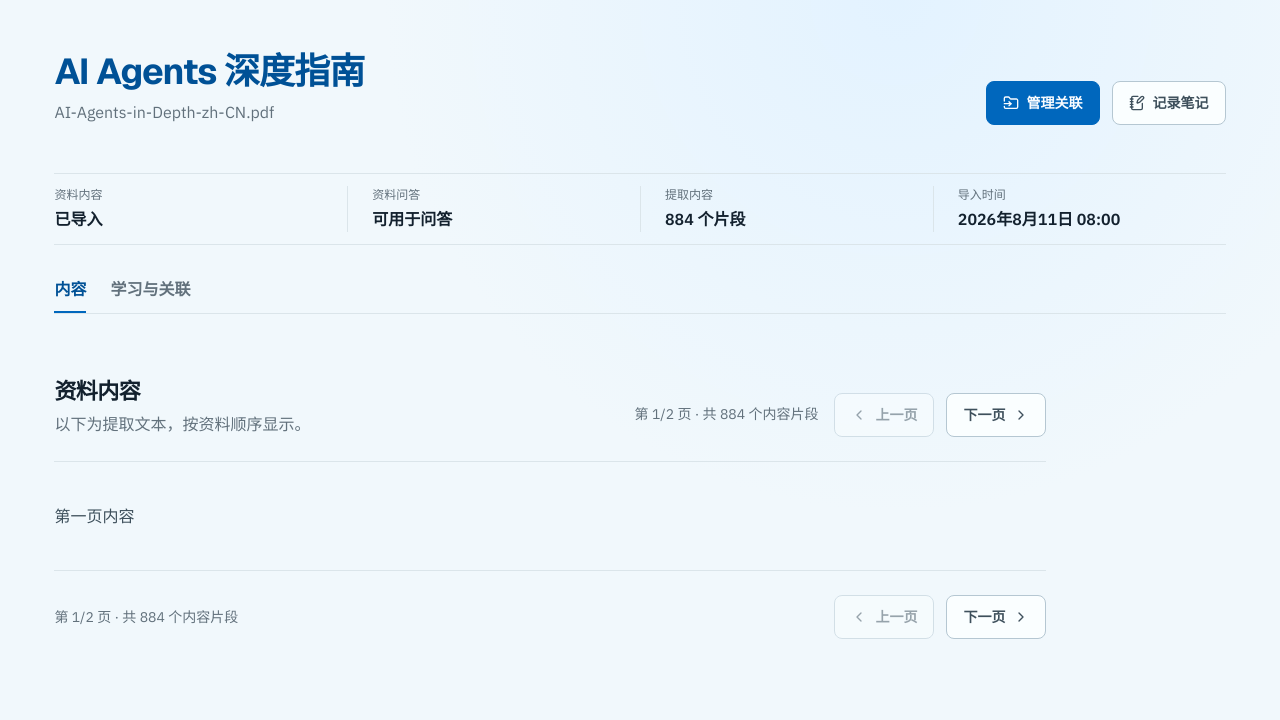
Final UX Batch 3C · content surface and pagination › 上一页 / 下一页使用服务端分页，并正确限制边界
Check: the text "第一页内容" is shown, box [54,506,134,526]
Check: the button with aria-label "上一页资料内容" is disabled, box [834,393,934,437]
Click the button with aria-label "下一页资料内容". click: (996, 415)
box: [946,393,1046,437]
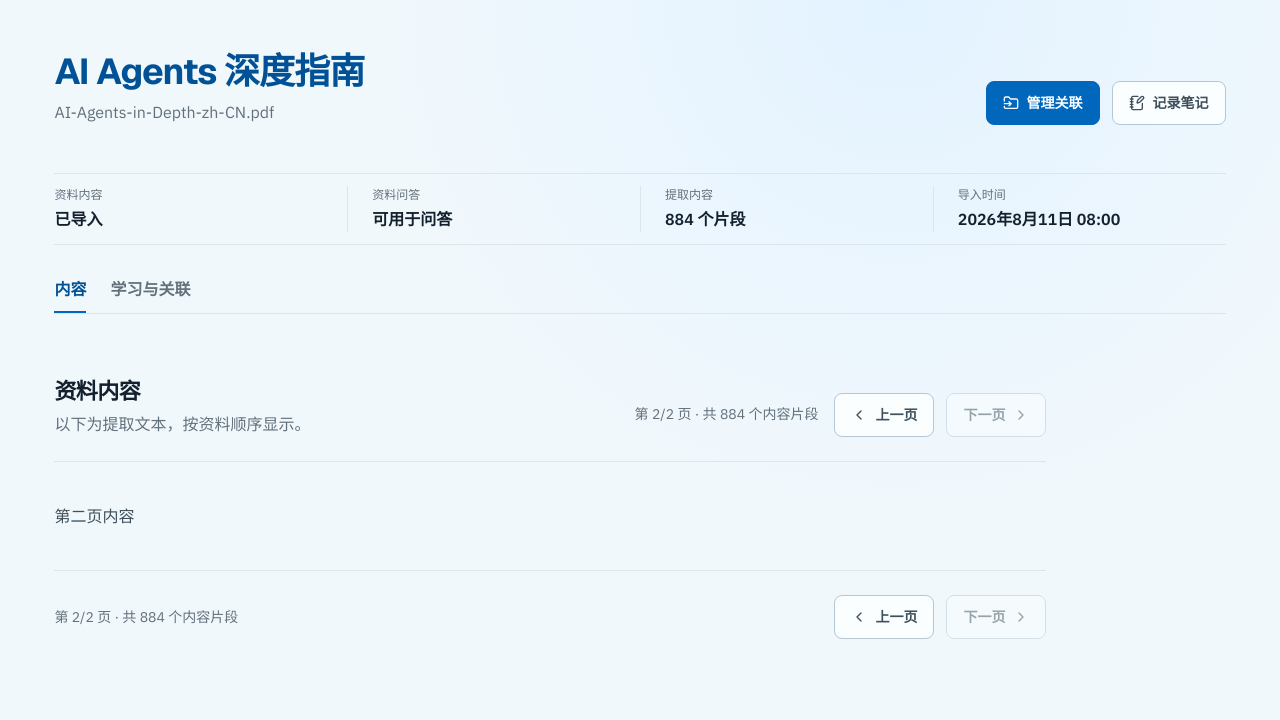
Check: the text "第二页内容" is shown, box [54,506,134,526]
Check: the button with aria-label "下一页资料内容" is disabled, box [946,393,1046,437]
Click the button with aria-label "上一页资料内容". click: (884, 415)
box: [834,393,934,437]
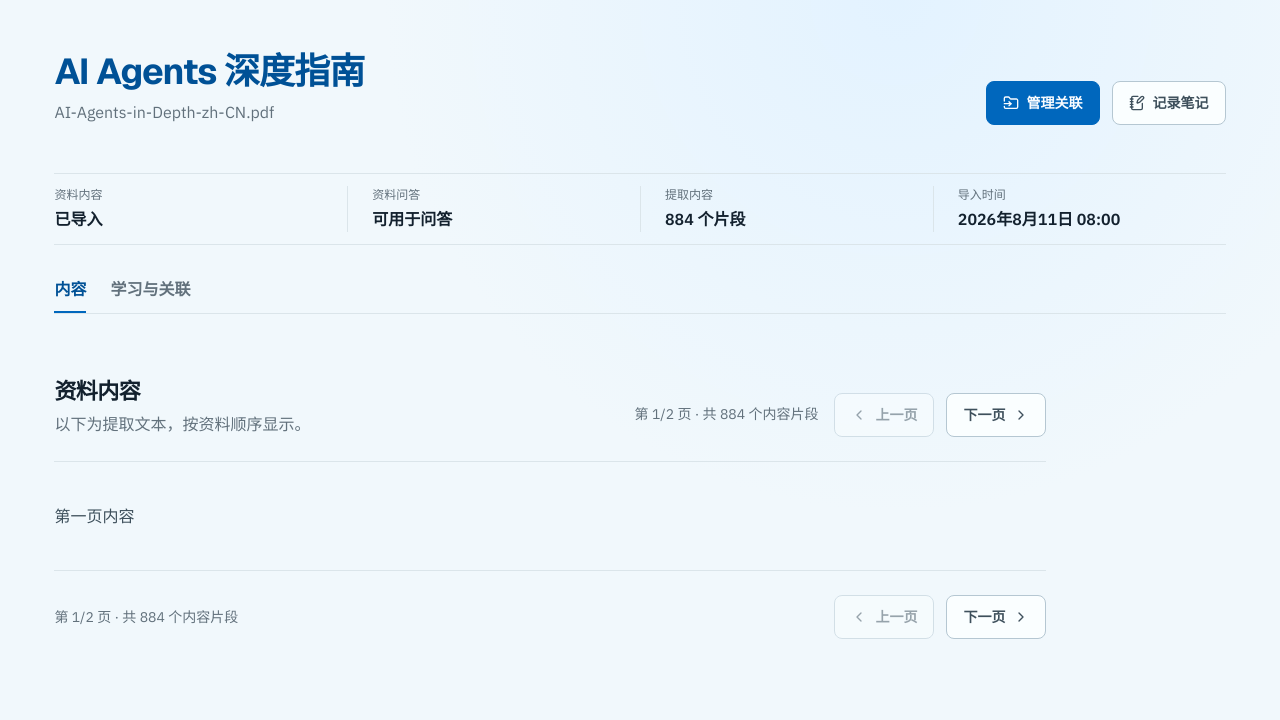
Check: the text "第一页内容" is shown, box [54,506,134,526]
